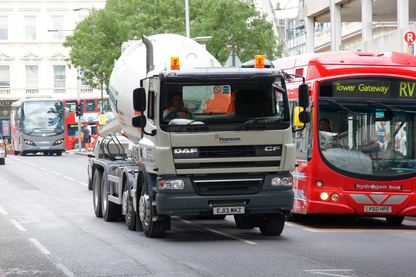bus: (273, 48, 416, 226), (11, 99, 70, 156), (62, 96, 119, 150)
truck: (91, 35, 309, 235)
